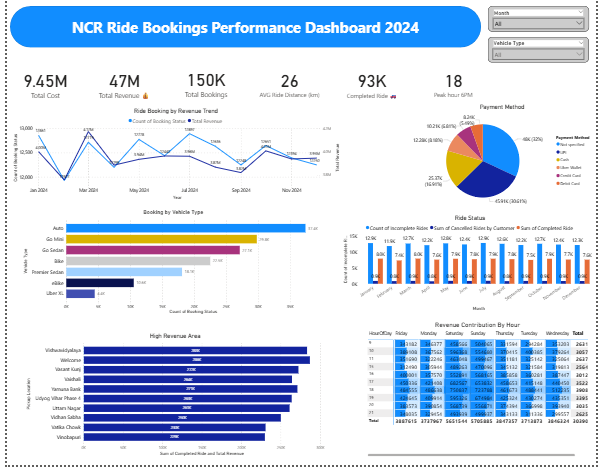

Layout of this report page (visuals, bound fields, positions):
{"tool":"powerbi","page":{"name":"Page 1","canvas":[1900,1500],"ordinal":0},"visuals":[{"type":"card","fields":{"Values":["ncr_ride_bookings (2).Total Cost"]},"box":[14.3,205.4,221.4,123.2],"z":0},{"type":"card","fields":{"Values":["CountNonNull(ncr_ride_bookings (2).Total Bookings)"]},"box":[536.7,199.6,213.1,132.2],"z":1000},{"type":"lineChart","title":"Ride Booking  by Revenue Trend","fields":{"Y":["CountNonNull(ncr_ride_bookings (2).Booking Status)"],"Category":["ncr_ride_bookings (2).Date.Variation.Date Hierarchy.Year","ncr_ride_bookings (2).Date.Variation.Date Hierarchy.Month"],"Y2":["ncr_ride_bookings (2).Total Revenue"]},"box":[12.5,346.4,1064.3,303.6],"z":2000},{"type":"card","fields":{"Values":["ncr_ride_bookings (2).Total Revenue"]},"box":[250,201.9,261.1,127.8],"z":3000},{"type":"pieChart","title":"Payment Method","fields":{"Category":["ncr_ride_bookings (2).Payment Method"],"Y":["CountNonNull(ncr_ride_bookings (2).Payment Method)"]},"box":[1293.3,331.7,606.7,351.7],"z":4000},{"type":"clusteredBarChart","title":" Booking by Vehicle Type","fields":{"Y":["CountNonNull(ncr_ride_bookings (2).Booking Status)"],"Category":["ncr_ride_bookings (2).Vehicle Type"]},"box":[45.1,674.5,982.4,345.1],"z":5000},{"type":"clusteredColumnChart","title":"Ride Status ","fields":{"Category":["ncr_ride_bookings (2).Date.Variation.Date Hierarchy.Month"],"Y":["CountNonNull(ncr_ride_bookings (2).Incomplete Rides)","Sum(ncr_ride_bookings (2).Cancelled Rides by Customer)","Sum(ncr_ride_bookings (2).Completed Ride)"]},"box":[1076.6,689.4,831.9,317],"z":6000},{"type":"shape","box":[10.7,19.6,1519.6,133.9],"z":7000},{"type":"card","fields":{"Values":["ncr_ride_bookings (2).Peak Hour"]},"box":[1328.9,207.9,221.1,121.1],"z":8000},{"type":"barChart","title":" High Revenue Area","fields":{"Y":["Sum(ncr_ride_bookings (2).Completed Ride)","ncr_ride_bookings (2).Total Revenue"],"Category":["ncr_ride_bookings (2).Pickup Location"]},"box":[54.9,1070.6,974.5,405.9],"z":9000},{"type":"card","fields":{"Values":["Sum(ncr_ride_bookings (2).Completed Ride)"]},"box":[1046.4,205.4,264.3,123.2],"z":10000},{"type":"card","fields":{"Values":["ncr_ride_bookings (2).Avg Ride Distance"]},"box":[794.6,207.1,235.7,121.4],"z":11000},{"type":"slicer","fields":{"Values":["ncr_ride_bookings (2).Vehicle Type"]},"box":[1550.7,119.4,325.4,82.1],"z":12000},{"type":"slicer","fields":{"Values":["ncr_ride_bookings (2).Date.Variation.Date Hierarchy.Month"]},"box":[1551.1,19.1,325.5,83],"z":13000},{"type":"pivotTable","title":"Revenue Contribution By Hour","fields":{"Columns":["ncr_ride_bookings (2).DayOfWeek"],"Rows":["ncr_ride_bookings (2).HourOfDay"],"Values":["ncr_ride_bookings (2).Total Revenue"]},"box":[1156.7,1035,720,441.7],"z":14000}]}

Visuals, with their boxes in screenshot pixels (x1, y1, x2, y2), scaled from the page's 1900x1500 canvas onto the 606x468 screenshot:
card - ncr_ride_bookings (2).Total Cost: (5, 64, 75, 103)
card - CountNonNull(ncr_ride_bookings (2).Total Bookings): (171, 62, 239, 104)
"Ride Booking  by Revenue Trend" lineChart: (4, 108, 343, 203)
card - ncr_ride_bookings (2).Total Revenue: (80, 63, 163, 103)
"Payment Method" pieChart: (412, 103, 605, 213)
" Booking by Vehicle Type" clusteredBarChart: (14, 210, 328, 318)
"Ride Status " clusteredColumnChart: (343, 215, 605, 314)
shape: (3, 6, 488, 48)
card - ncr_ride_bookings (2).Peak Hour: (424, 65, 494, 103)
" High Revenue Area" barChart: (18, 334, 328, 461)
card - Sum(ncr_ride_bookings (2).Completed Ride): (334, 64, 418, 103)
card - ncr_ride_bookings (2).Avg Ride Distance: (253, 65, 329, 102)
slicer - ncr_ride_bookings (2).Vehicle Type: (495, 37, 598, 63)
slicer - ncr_ride_bookings (2).Date.Variation.Date Hierarchy.Month: (495, 6, 599, 32)
"Revenue Contribution By Hour" pivotTable: (369, 323, 599, 461)
